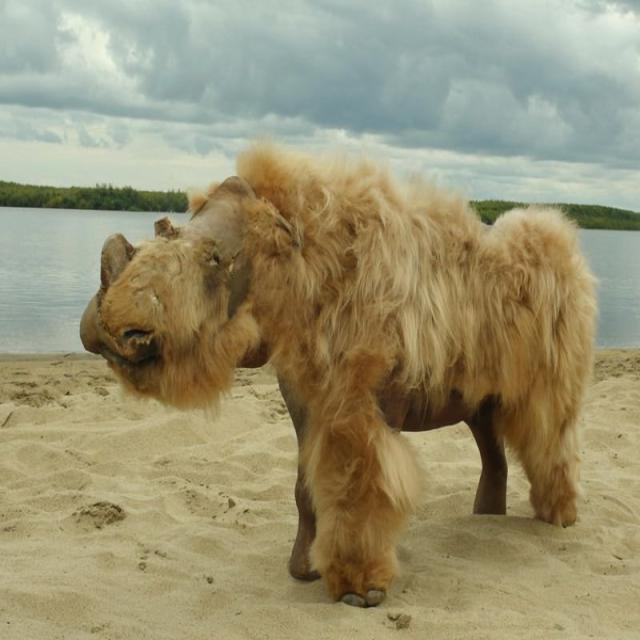rhinoceros: (81, 145, 596, 606)
